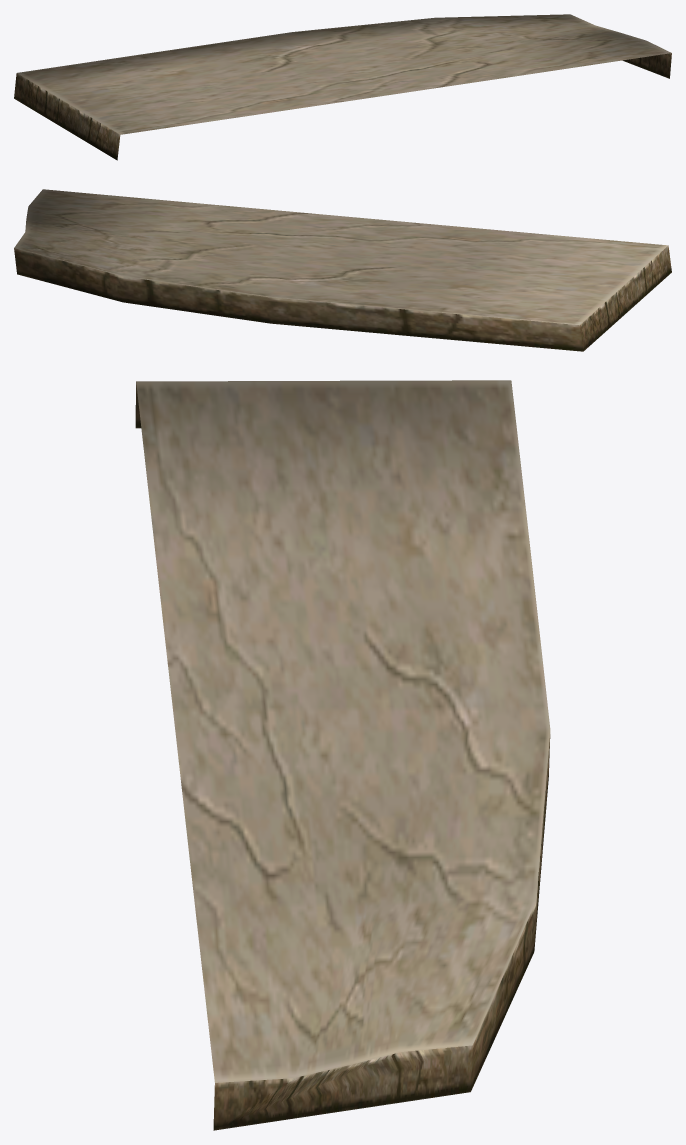
File: HTOWN01_BAGROW3PORCH.fbx
3 renders of one model, top to bottom at view 1: azimuth 30°, elevation 25°; view 2: azimuth 150°, elevation 25°; view 3: azimuth 270°, elevation 25°, orthographic. The views are drawn at different scales.
Parts seen in each view (by area): view 1: HTOWN01_BAGROW3PORCH; view 2: HTOWN01_BAGROW3PORCH; view 3: HTOWN01_BAGROW3PORCH.
Boxes of the visible parts, <box> form: HTOWN01_BAGROW3PORCH: <box>14,14,671,160</box>; HTOWN01_BAGROW3PORCH: <box>14,189,671,351</box>; HTOWN01_BAGROW3PORCH: <box>135,380,550,1130</box>.
Bounding box in the file's own units: 76628 × 12158 × 23563.
2 materials, 2 textured.
